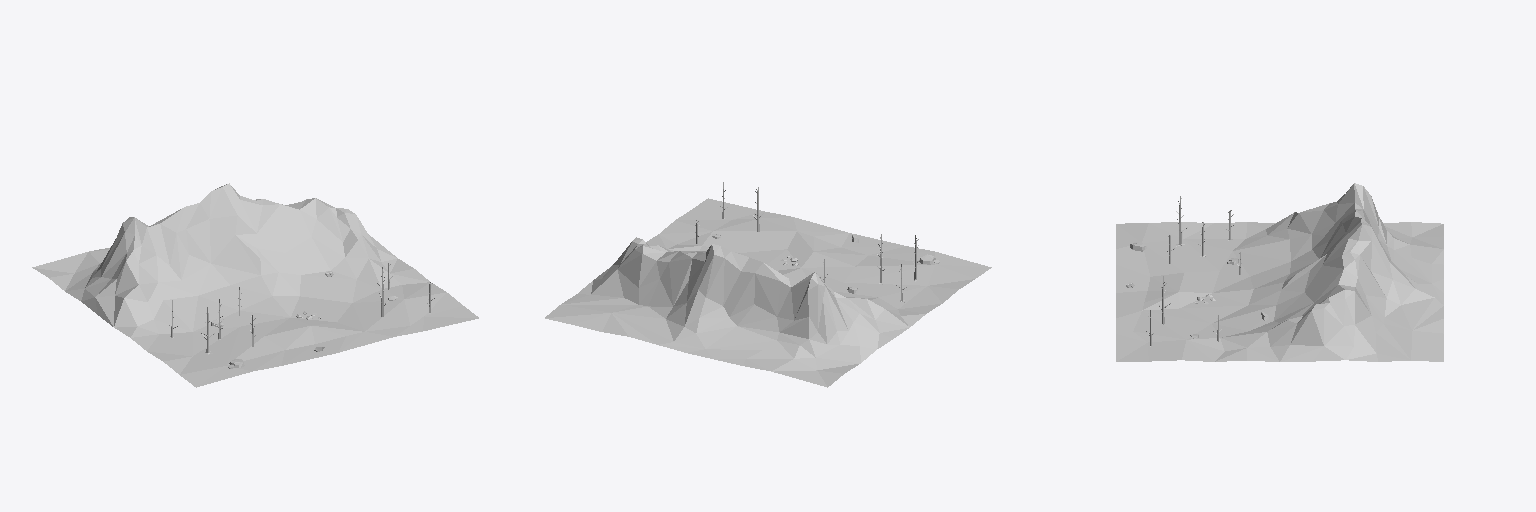
File: plague island.obj
3 views of the same model, side by side, from view 1: azimuth 30°, elevation 25°; view 2: azimuth 150°, elevation 25°; view 3: azimuth 270°, elevation 25° (orthographic).
Parts seen in each view (by area): view 1: terrain-mountain-range_1; view 2: terrain-mountain-range_1; view 3: terrain-mountain-range_1.
Part boxes in pixels (x1,y1,x2,y2): terrain-mountain-range_1: (32, 183, 478, 387); terrain-mountain-range_1: (545, 198, 991, 387); terrain-mountain-range_1: (1116, 183, 1443, 361).
Bounding box in the file's own units: 60 × 15.71 × 60.